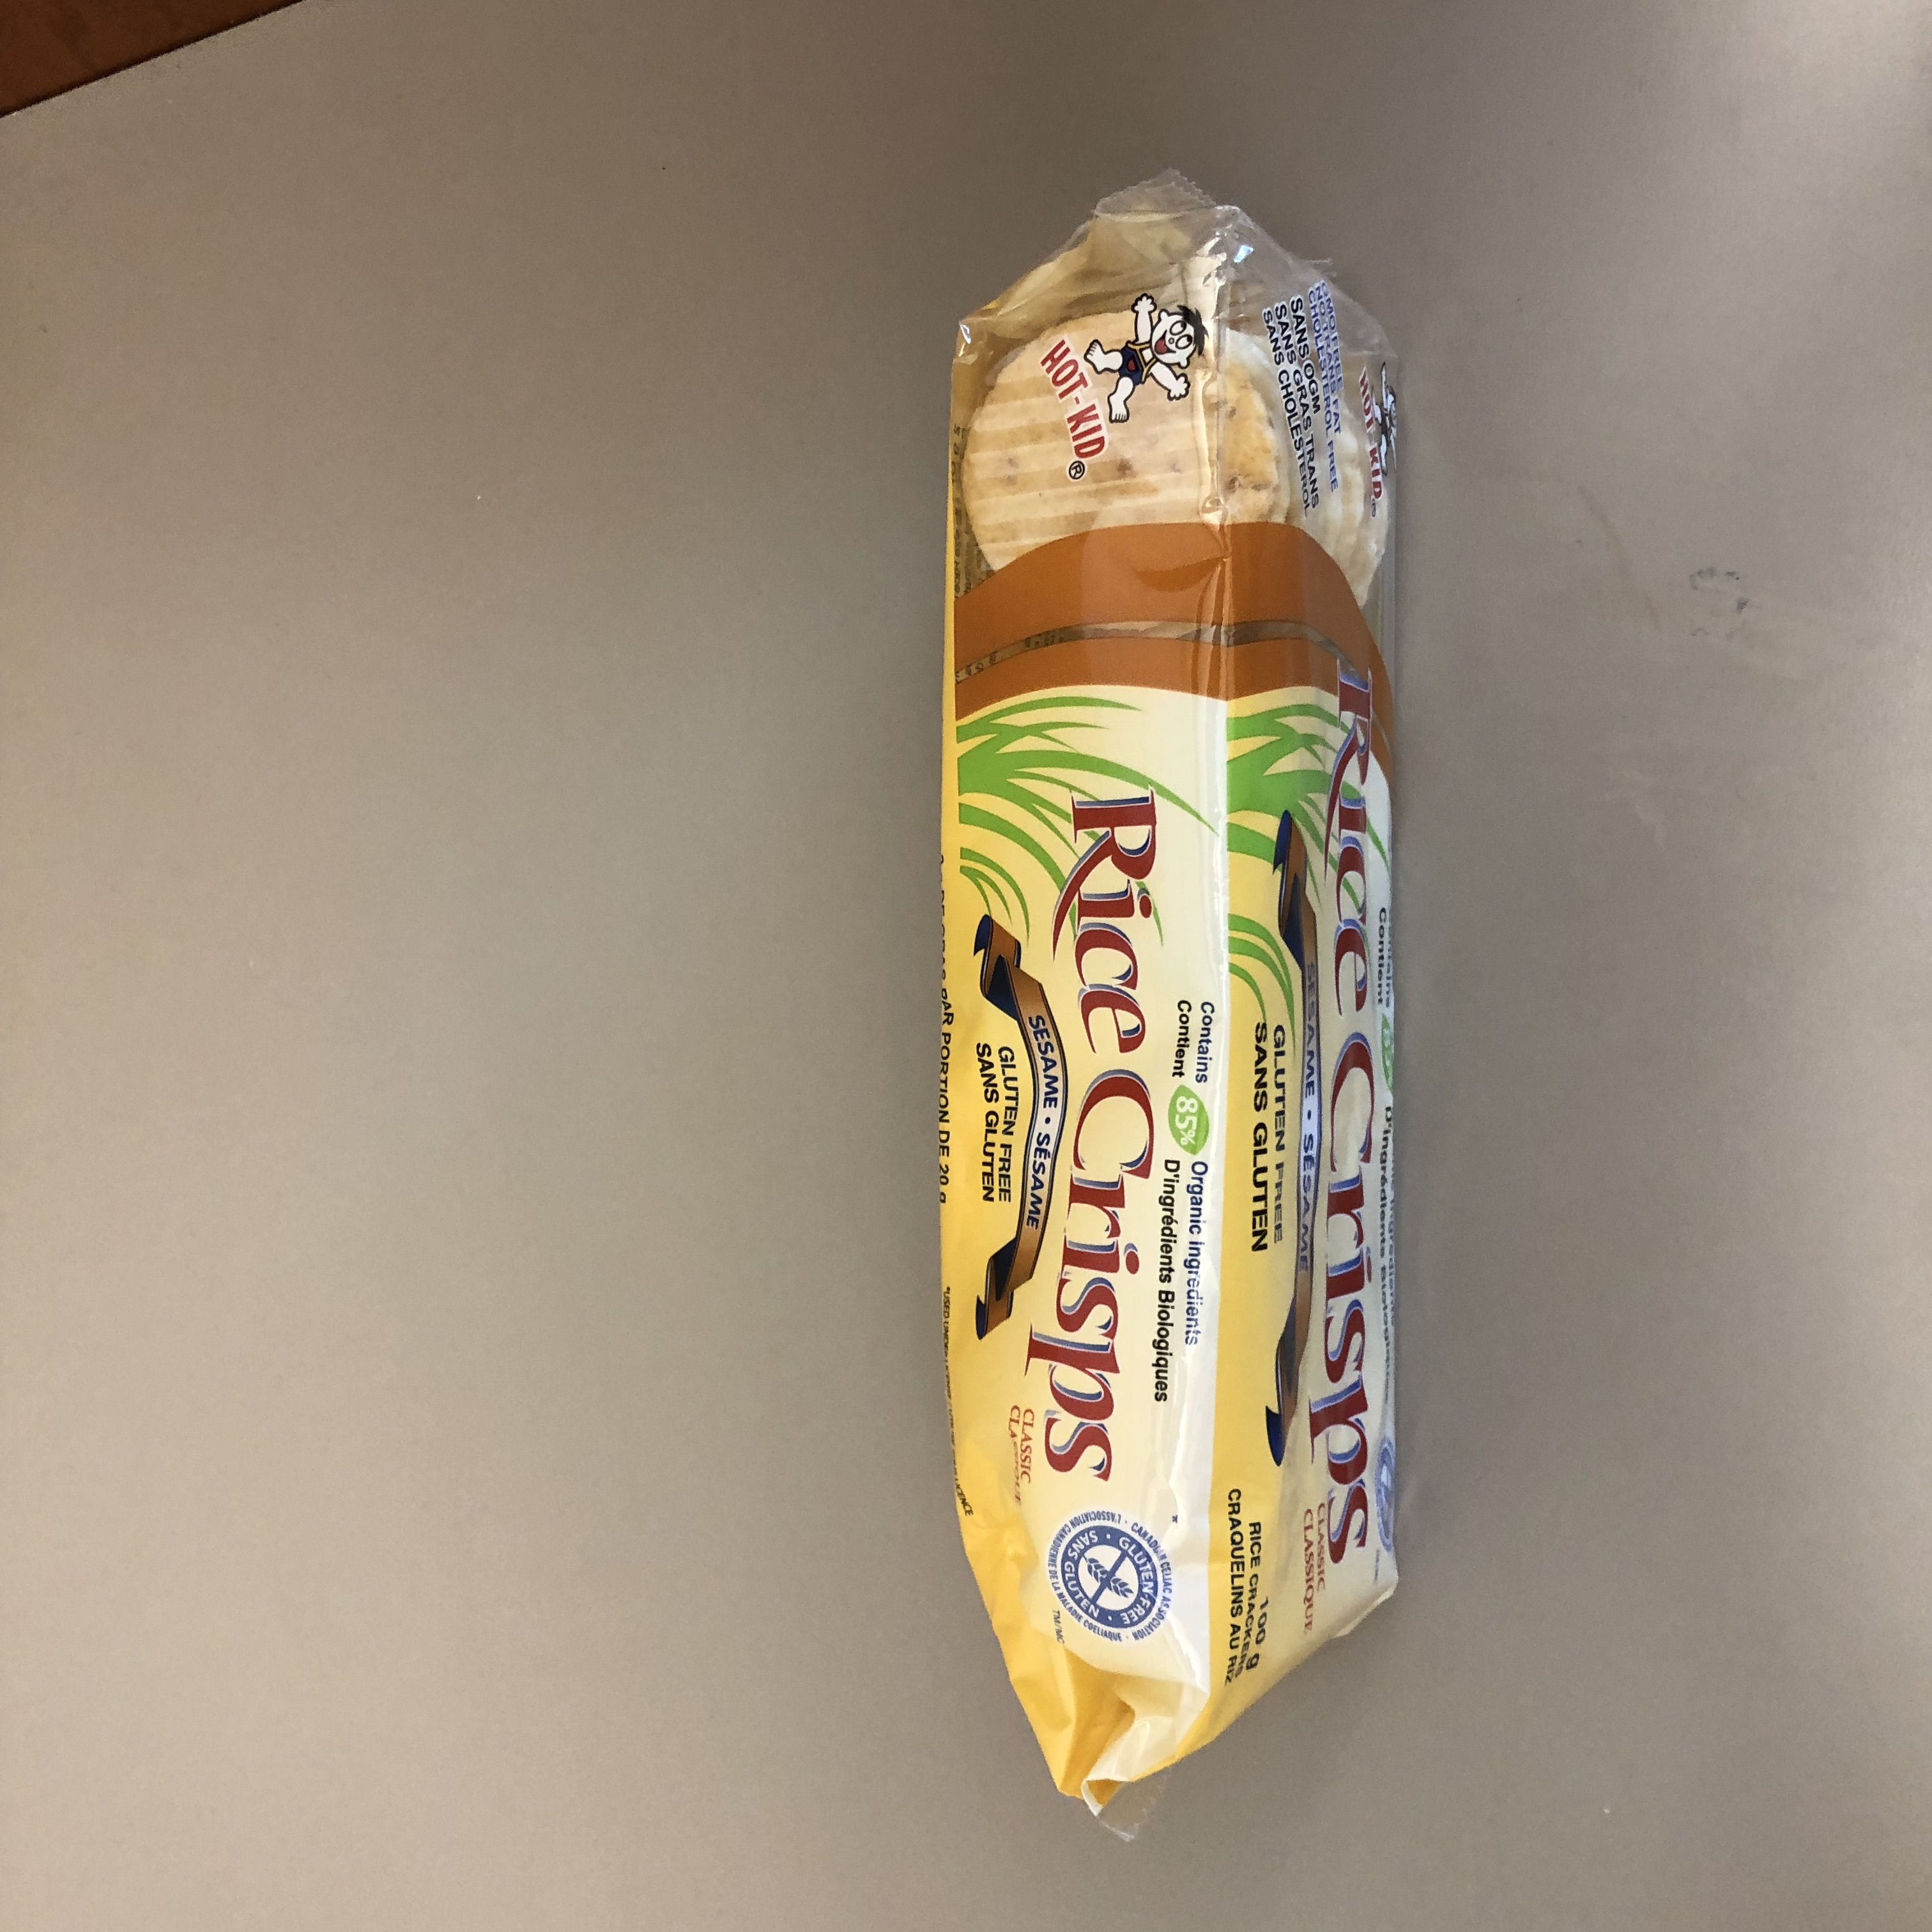hot_kid_rice_crisps_sesame: (272, 539, 1764, 972)
